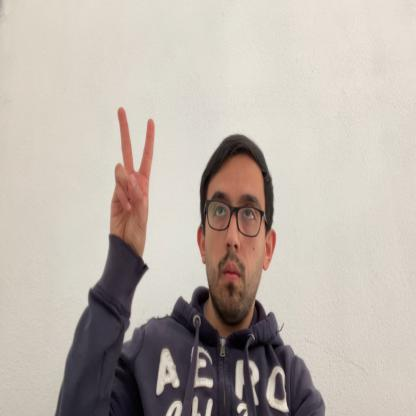V: (110, 107, 154, 248)
